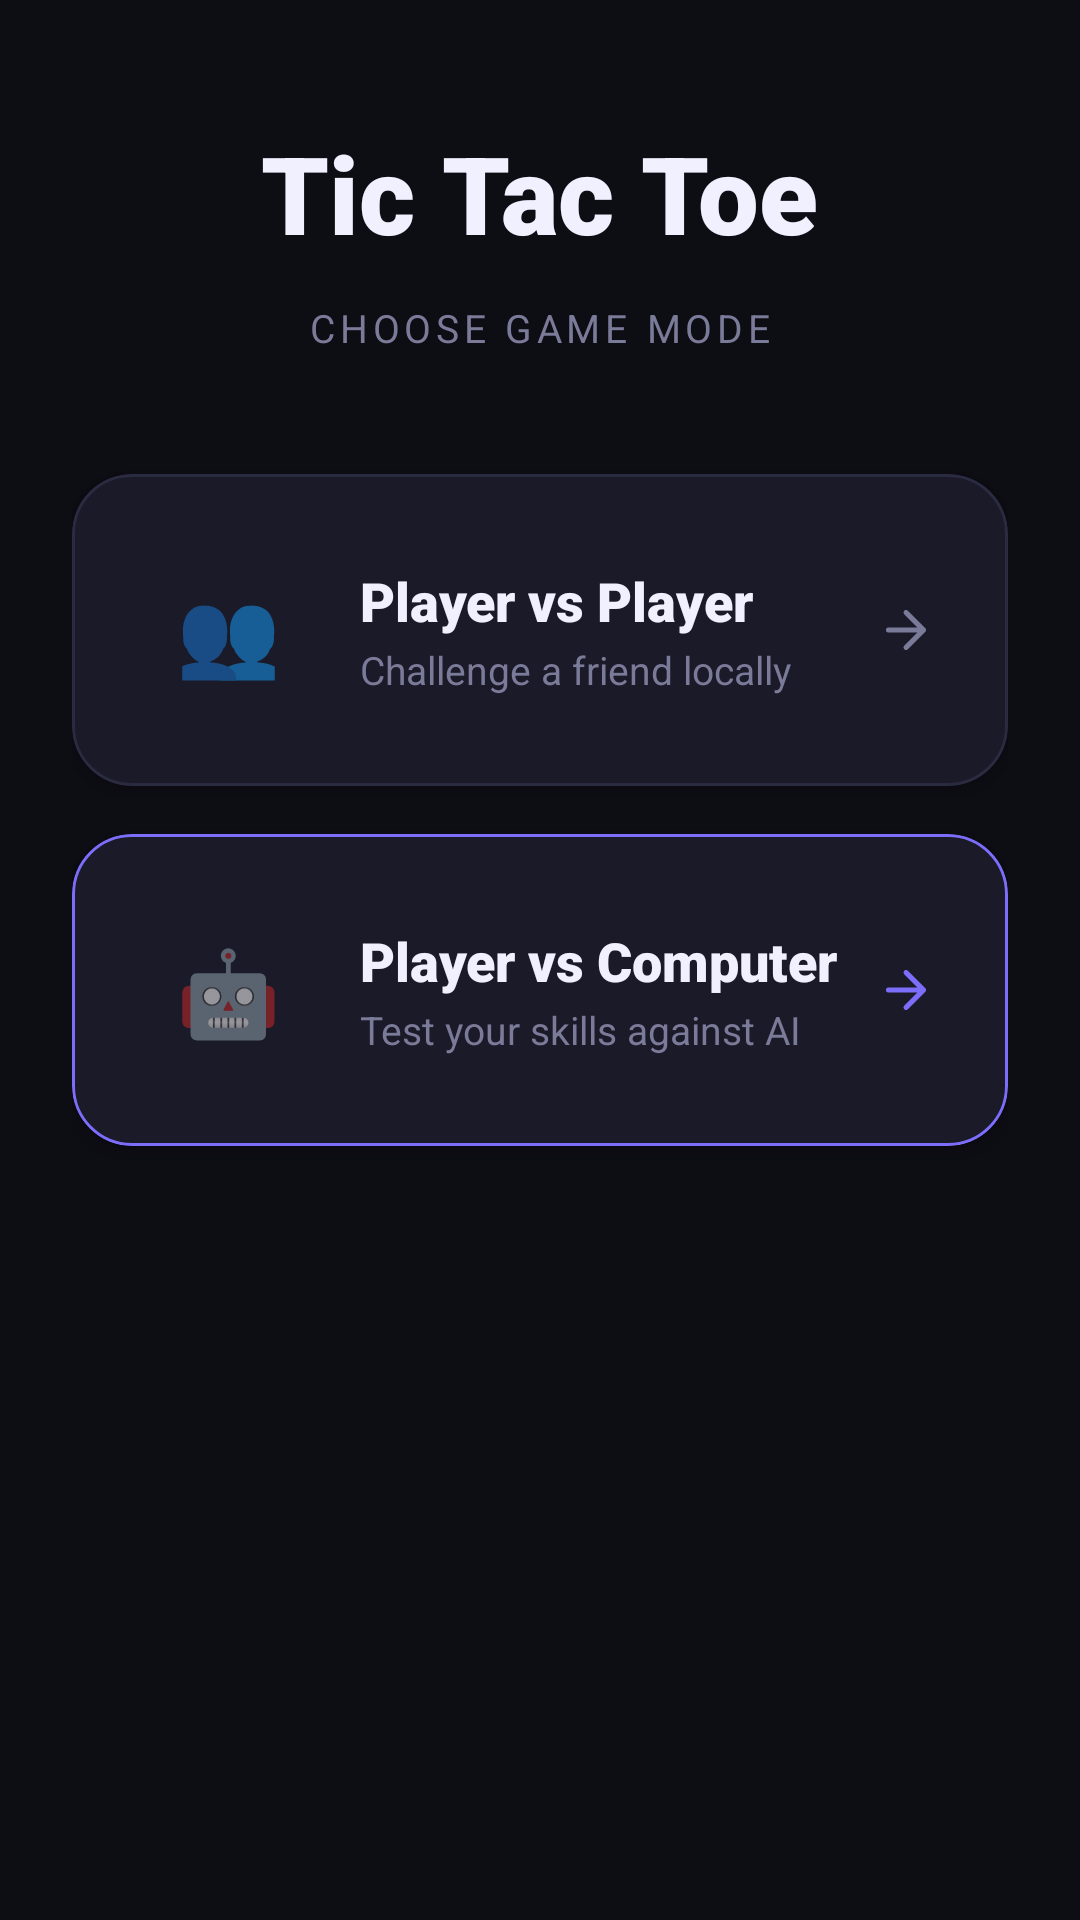

Named icons in this screenshot (1080 × 1920) and their bounding boxes, (x1, y1, x2, y2):
arrow right: (886, 610, 926, 650), (886, 970, 926, 1010)
